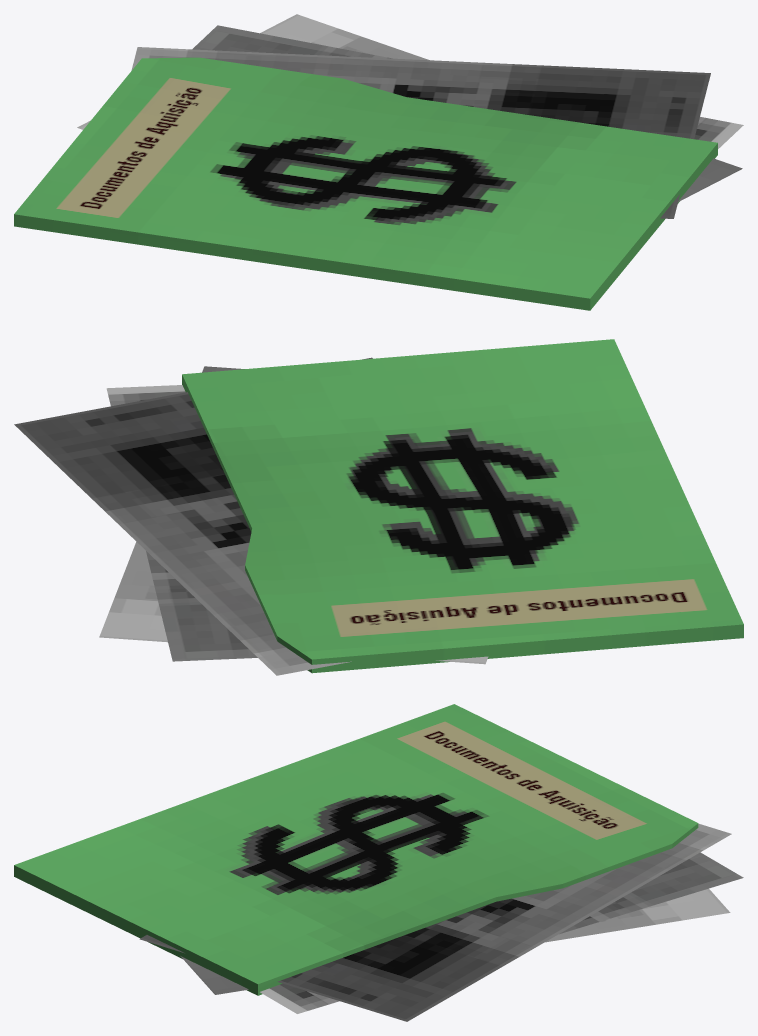
The model's file is Pad Compra.glb.
The picture shows the model from 3 angles, top to bottom: view 1: azimuth 30°, elevation 25°; view 2: azimuth 150°, elevation 25°; view 3: azimuth 270°, elevation 25°; orthographic projection. The views are drawn at different scales.
Visible parts, largest first — view 1: Aquisição; view 2: Aquisição; view 3: Aquisição.
Boxes of the visible parts, x1,y1,x2,y2 form: Aquisição: (14,14,743,310); Aquisição: (14,339,743,675); Aquisição: (14,704,743,1021).
Size of the model in its own units: 2.08 by 0.036 by 2.05.
Materials: 1 (1 with a texture image).
